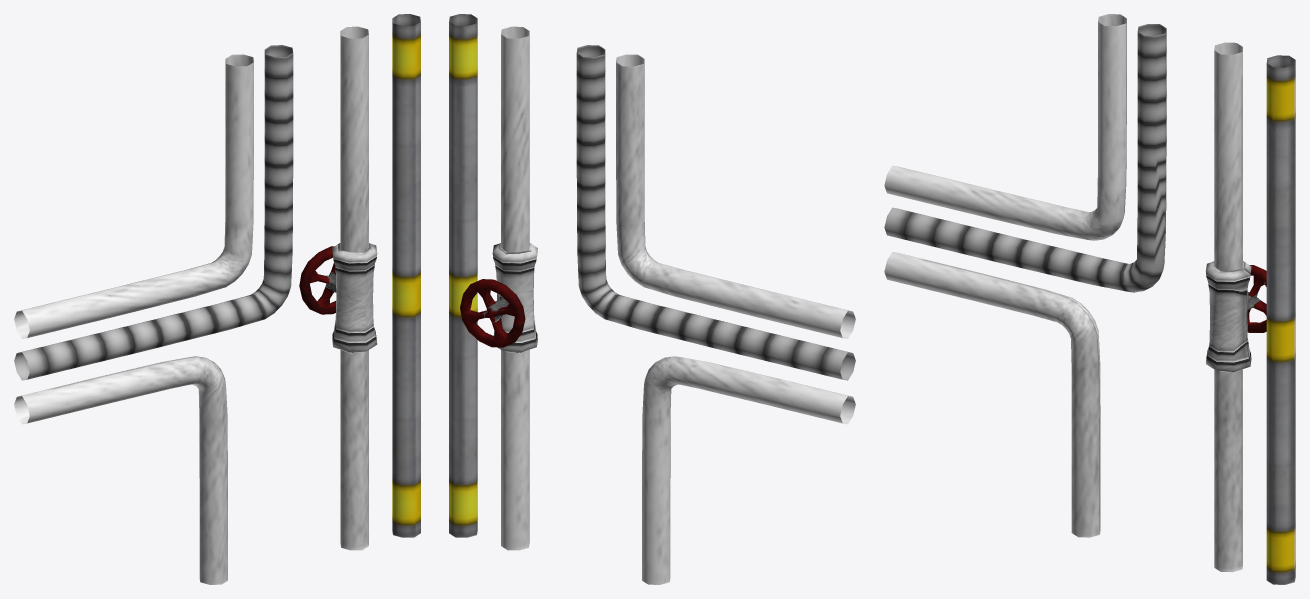
The model's file is Obj_Pipes_Small_1.FBX.
The picture shows the model from 3 angles, left to right: view 1: azimuth 30°, elevation 25°; view 2: azimuth 150°, elevation 25°; view 3: azimuth 330°, elevation 25°; orthographic projection.
Visible parts, largest first — view 1: Pipe_016, Pipe_013, Pipe_017, Pipe_015, Pipe_014, Pipe_Valve002; view 2: Pipe_013, Pipe_016, Pipe_017, Pipe_015, Pipe_014, Pipe_Valve002; view 3: Pipe_016, Pipe_013, Pipe_017, Pipe_015, Pipe_014, Pipe_Valve002.
Boxes of the visible parts, x1,y1,x2,y2 form: Pipe_016: (392,14,420,537); Pipe_013: (14,45,293,380); Pipe_017: (14,54,253,338); Pipe_015: (340,26,368,550); Pipe_014: (14,356,227,584); Pipe_Valve002: (299,243,377,353); Pipe_013: (576,45,855,380); Pipe_016: (449,14,477,537); Pipe_017: (616,54,855,338); Pipe_015: (501,26,529,550); Pipe_014: (642,356,855,584); Pipe_Valve002: (460,243,537,353); Pipe_016: (1266,55,1295,584); Pipe_013: (884,24,1166,292); Pipe_017: (884,14,1126,240); Pipe_015: (1214,42,1242,572); Pipe_014: (884,252,1100,537); Pipe_Valve002: (1205,261,1266,372).
Size of the model in its own units: 3.26 by 4 by 0.5312.
